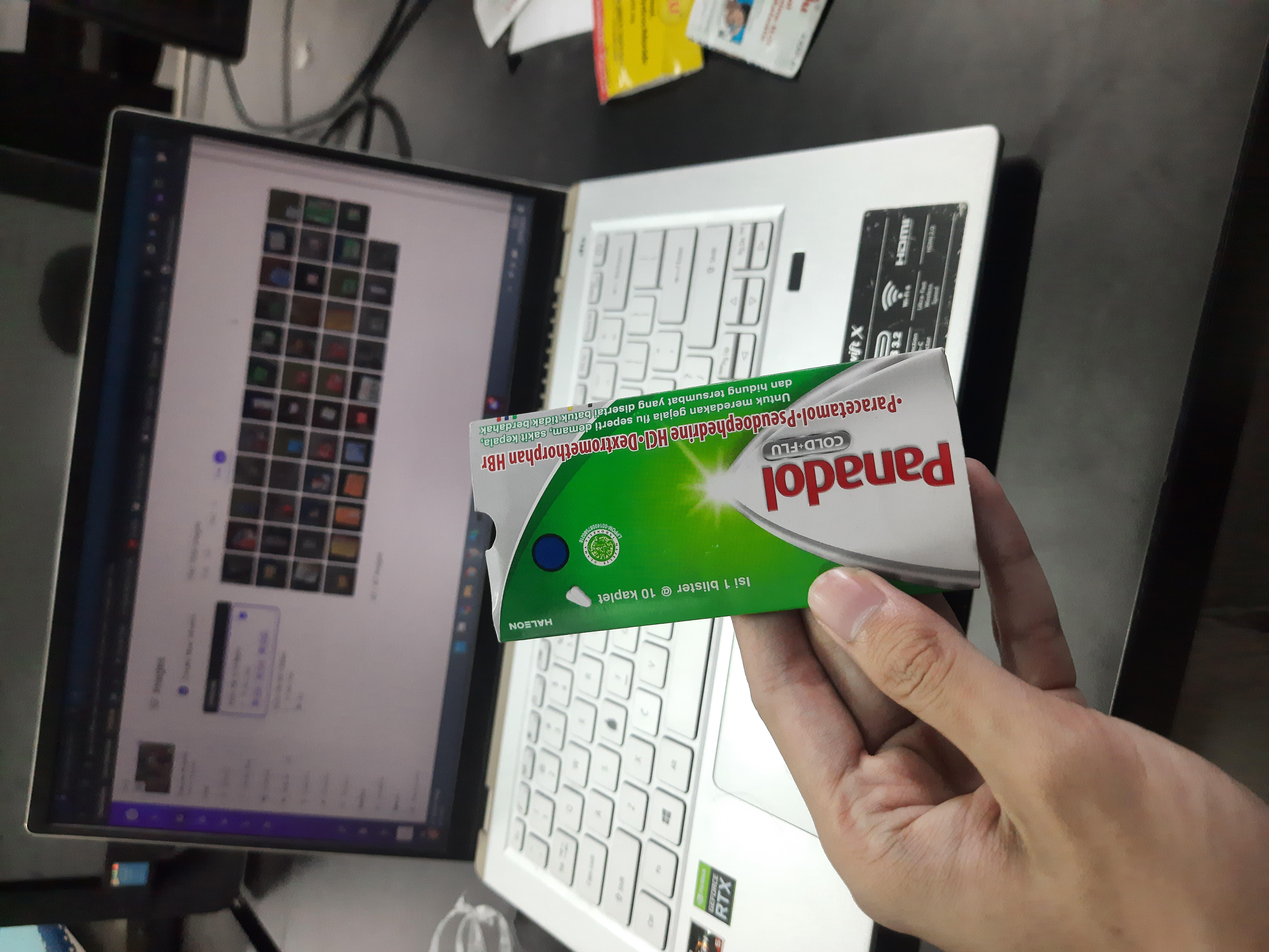Panadol Cold Flu: (413, 352, 807, 735)
